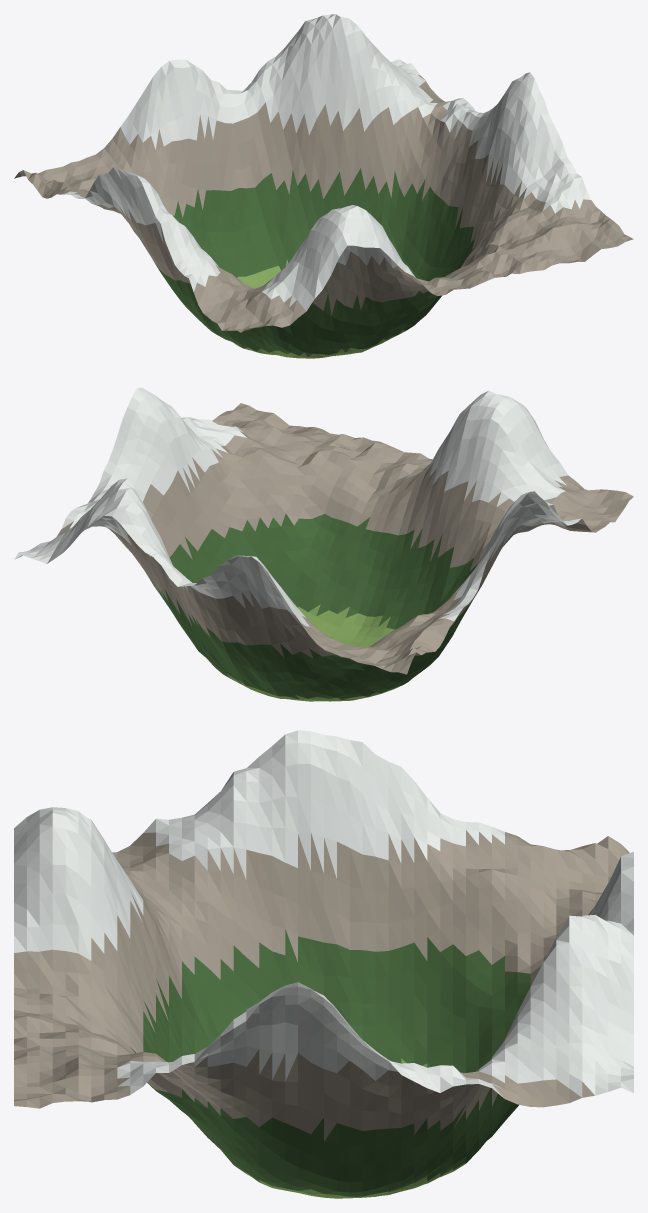
Rendered from terrain.glb.
3 renders of one model, top to bottom at view 1: azimuth 30°, elevation 25°; view 2: azimuth 150°, elevation 25°; view 3: azimuth 270°, elevation 25°, orthographic. The views are drawn at different scales.
Parts seen in each view (by area): view 1: terrain; view 2: terrain; view 3: terrain.
Part boxes in pixels (x1,y1,x2,y2): terrain: [14, 14, 633, 358]; terrain: [14, 387, 633, 701]; terrain: [14, 730, 633, 1198].
Bounding box in the file's own units: 480 × 261 × 480.
